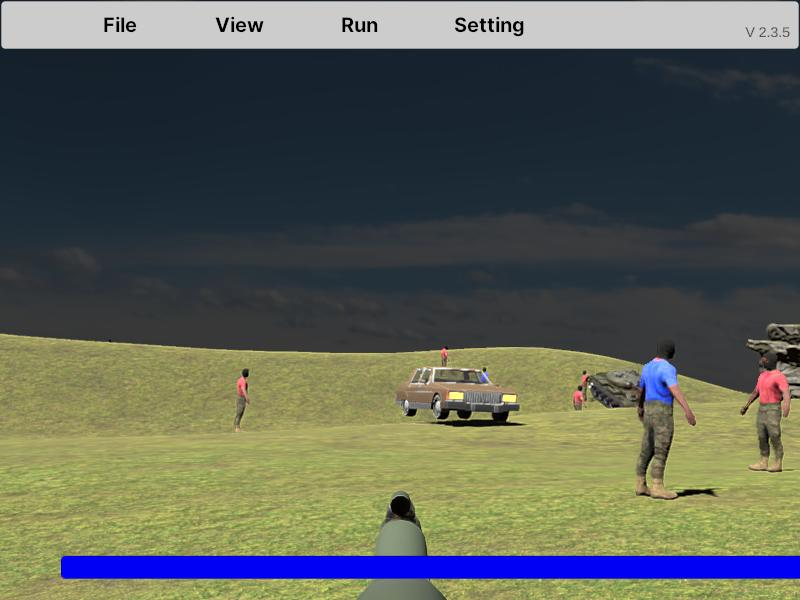Human: (635, 338, 696, 500), (741, 352, 791, 473), (234, 367, 250, 433)
car: (395, 366, 520, 423)
